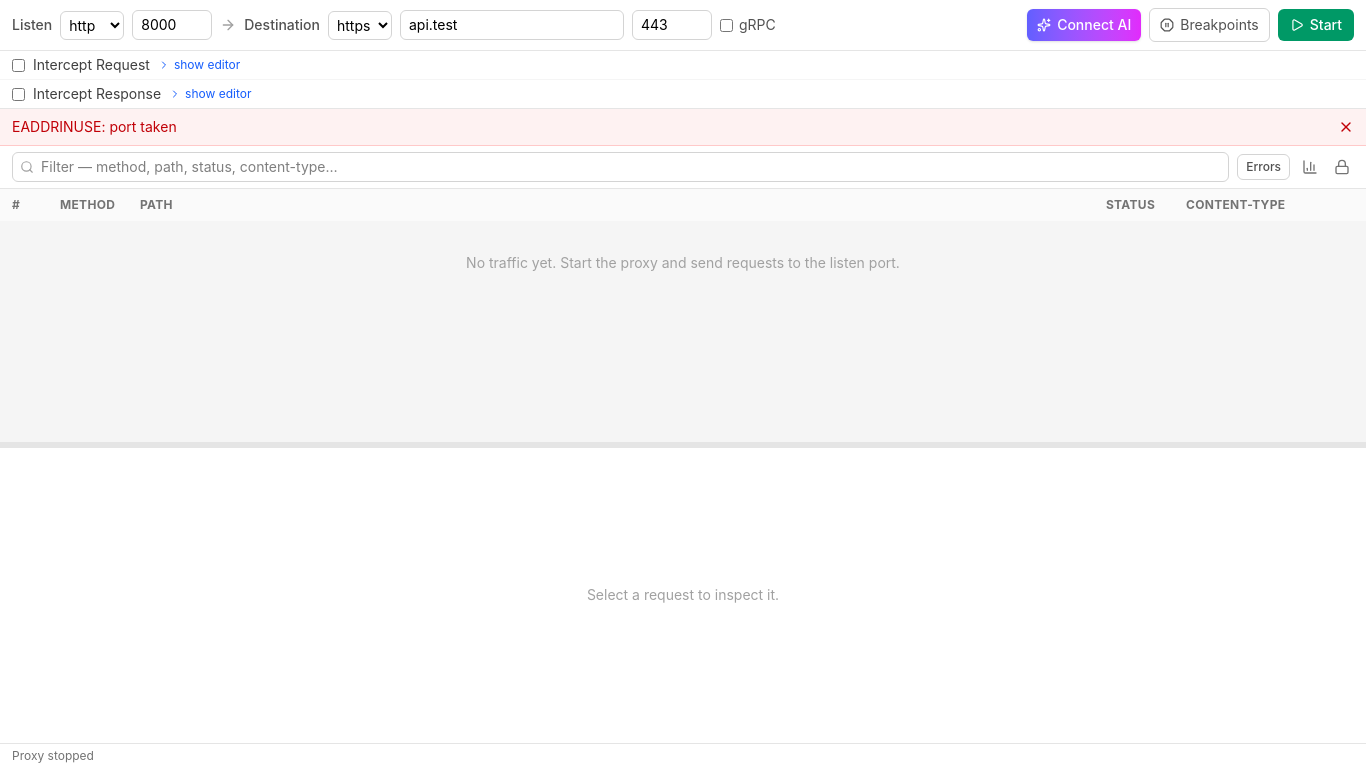
Test case: App reacting to main events › reflects proxy state and errors, and the error can be dismissed
Expected: the button named "Stop" is shown, [1278,9,1354,41]
Expected: the message reads "EADDRINUSE: port taken", [0,109,1365,146]
Click the button named "Dismiss error". click: (1346, 127)
box: [1338,119,1354,135]
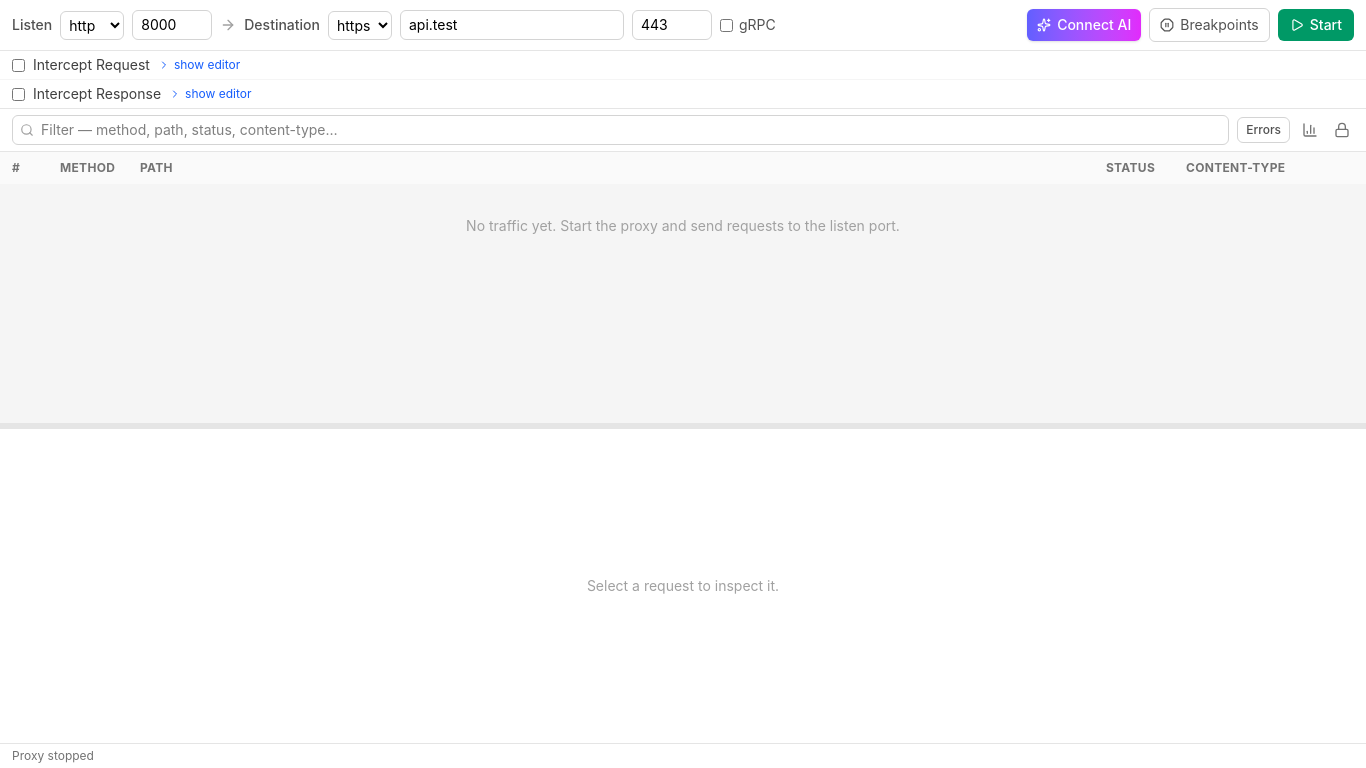
Now the message "EADDRINUSE: port taken" is gone
